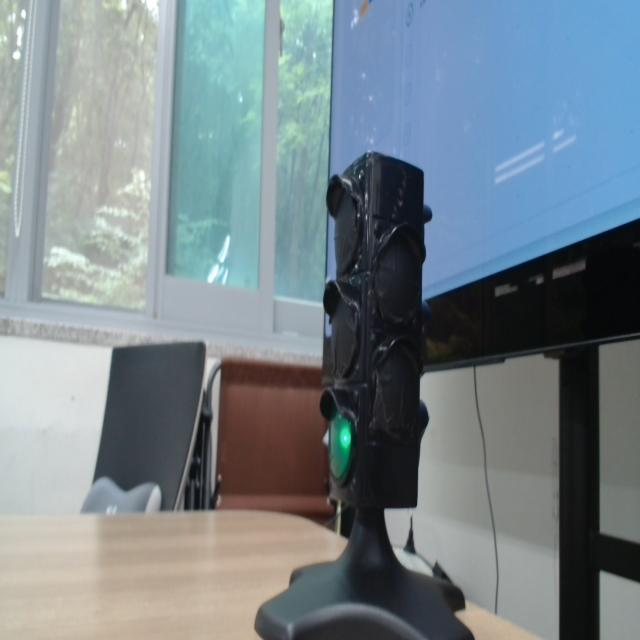green_light: (329, 414, 352, 482)
